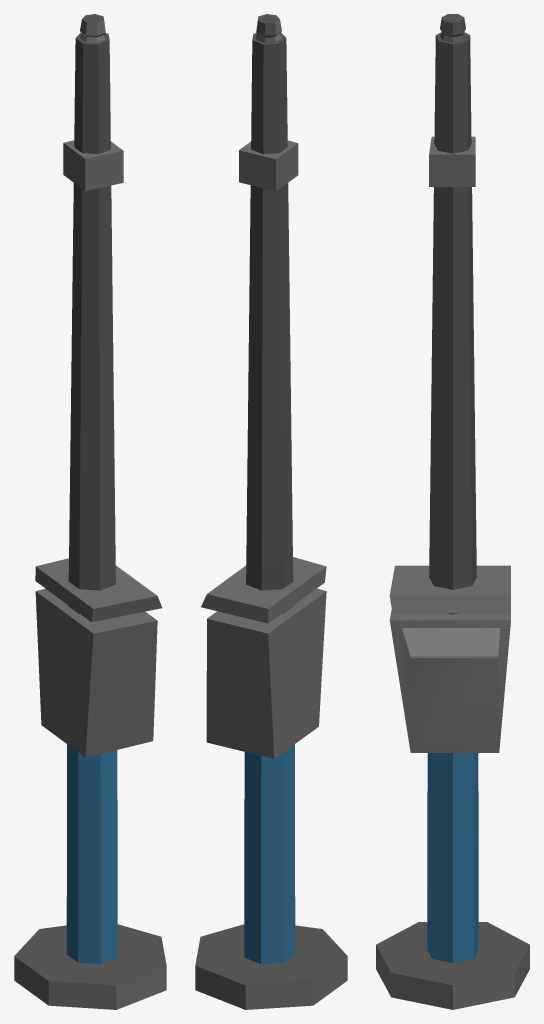
Rendered from _oste.fbx.
The picture shows the model from 3 angles, left to right: view 1: azimuth 30°, elevation 25°; view 2: azimuth 150°, elevation 25°; view 3: azimuth 270°, elevation 25°; orthographic projection.
Visible parts, largest first — view 1: Poste_2.001; view 2: Poste_2.001; view 3: Poste_2.001.
Boxes of the visible parts, x1,y1,x2,y2 form: Poste_2.001: [14, 14, 166, 1009]; Poste_2.001: [195, 14, 347, 1009]; Poste_2.001: [376, 14, 529, 1009].
Size of the model in its own units: 64.28 by 453 by 65.93.
